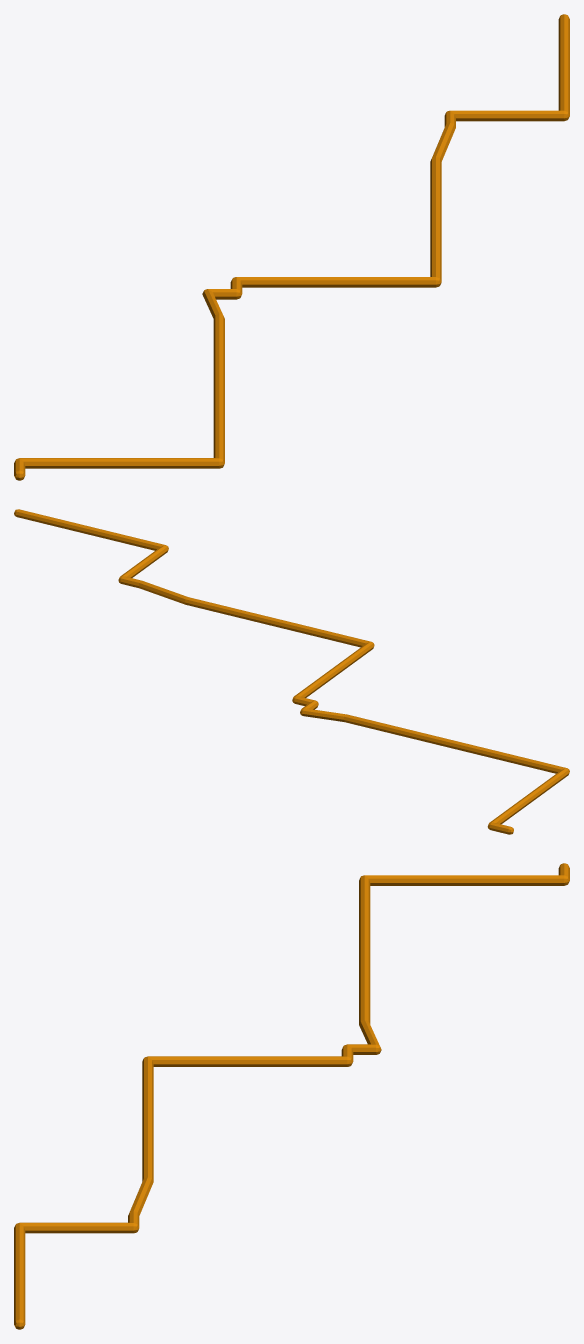
3 renders of one model, top to bottom at view 1: azimuth 90°, elevation 25°; view 2: azimuth 150°, elevation 25°; view 3: azimuth 270°, elevation 25°, orthographic. The views are drawn at different scales.
Size of the model in its own units: 1912 by 20 by 975.
